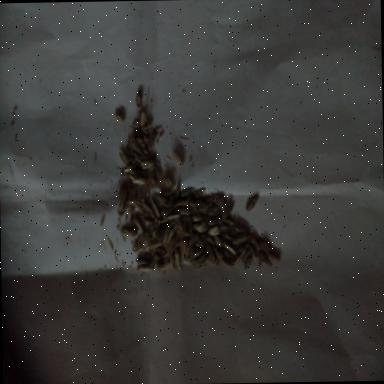pbw: (222, 195, 236, 219), (144, 240, 163, 256), (244, 194, 260, 212), (152, 194, 170, 209), (170, 150, 184, 168), (260, 239, 275, 255), (194, 255, 208, 271), (232, 236, 249, 249), (224, 243, 238, 258), (132, 142, 146, 157), (118, 147, 129, 166), (150, 200, 161, 219), (207, 215, 226, 226), (260, 250, 273, 266), (205, 248, 218, 264), (166, 227, 178, 244), (132, 238, 146, 252), (174, 196, 190, 208), (176, 250, 184, 274), (132, 218, 144, 234), (191, 249, 205, 262), (178, 220, 188, 238), (139, 136, 148, 156), (234, 222, 249, 234), (234, 248, 246, 263), (134, 258, 152, 268), (243, 254, 254, 270), (251, 235, 261, 252), (142, 158, 156, 170), (266, 250, 280, 262), (180, 188, 194, 200), (130, 177, 146, 187), (207, 224, 220, 236), (135, 89, 143, 108), (121, 227, 136, 237), (166, 214, 181, 224), (181, 245, 189, 263), (213, 236, 224, 249), (248, 246, 258, 260), (141, 109, 148, 129), (188, 237, 200, 248), (151, 130, 159, 146), (188, 200, 203, 208), (124, 163, 136, 173), (136, 267, 154, 273), (207, 204, 220, 212), (192, 215, 204, 223), (174, 210, 190, 216), (158, 262, 170, 270), (196, 241, 208, 249)
